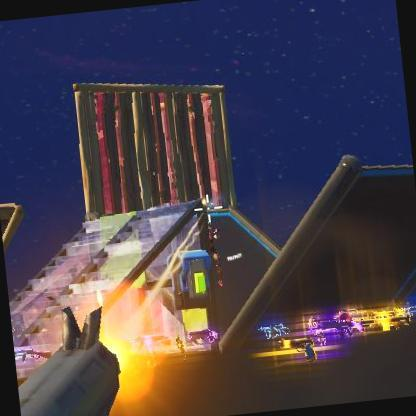person: (198, 220, 224, 279)
